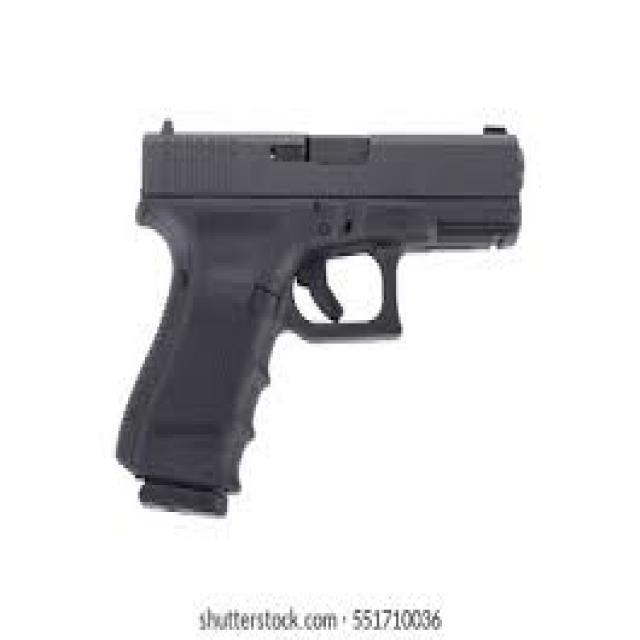semi automatic: (109, 108, 532, 528)
